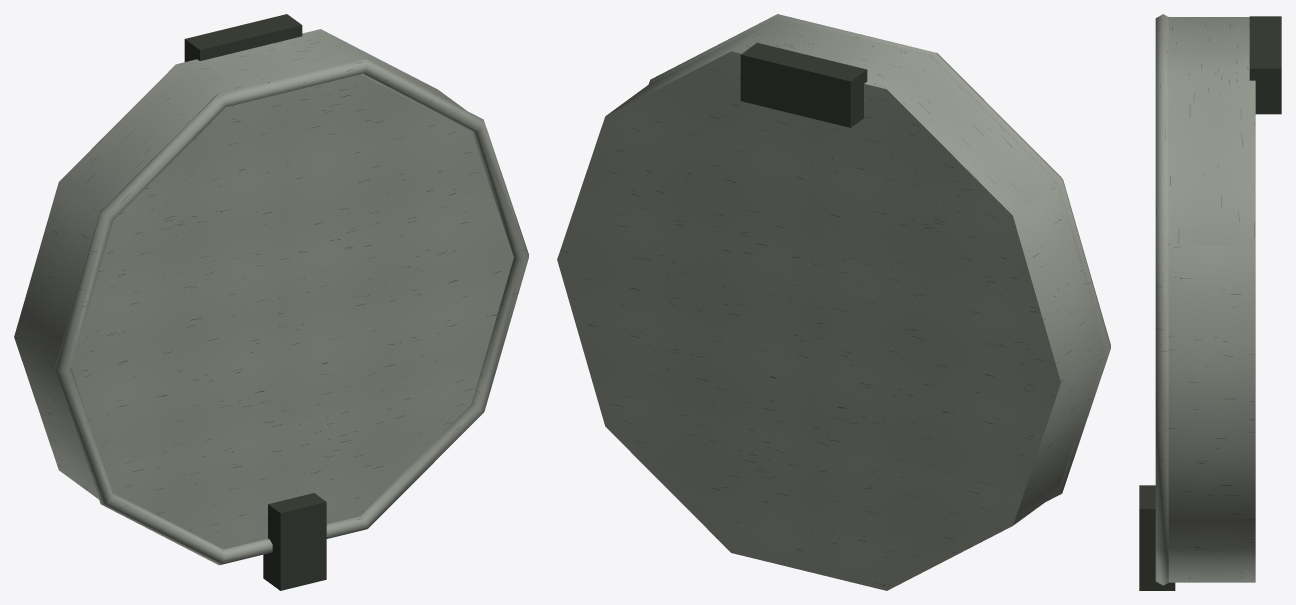
File: SM_FieldKit_LampHood_LOD2.glb
3 views of the same model, side by side, from view 1: azimuth 30°, elevation 25°; view 2: azimuth 150°, elevation 25°; view 3: azimuth 270°, elevation 25° (orthographic). The views are drawn at different scales.
Visible parts, largest first — view 1: SM_FieldKit_LampHood_LOD2; view 2: SM_FieldKit_LampHood_LOD2; view 3: SM_FieldKit_LampHood_LOD2.
Part boxes in pixels (<box>): SM_FieldKit_LampHood_LOD2: <box>14,14,528,590</box>; SM_FieldKit_LampHood_LOD2: <box>557,14,1110,590</box>; SM_FieldKit_LampHood_LOD2: <box>1139,14,1281,590</box>.
Bounding box in the file's own units: 0.287 × 0.295 × 0.071.
2 materials, 1 textured.
